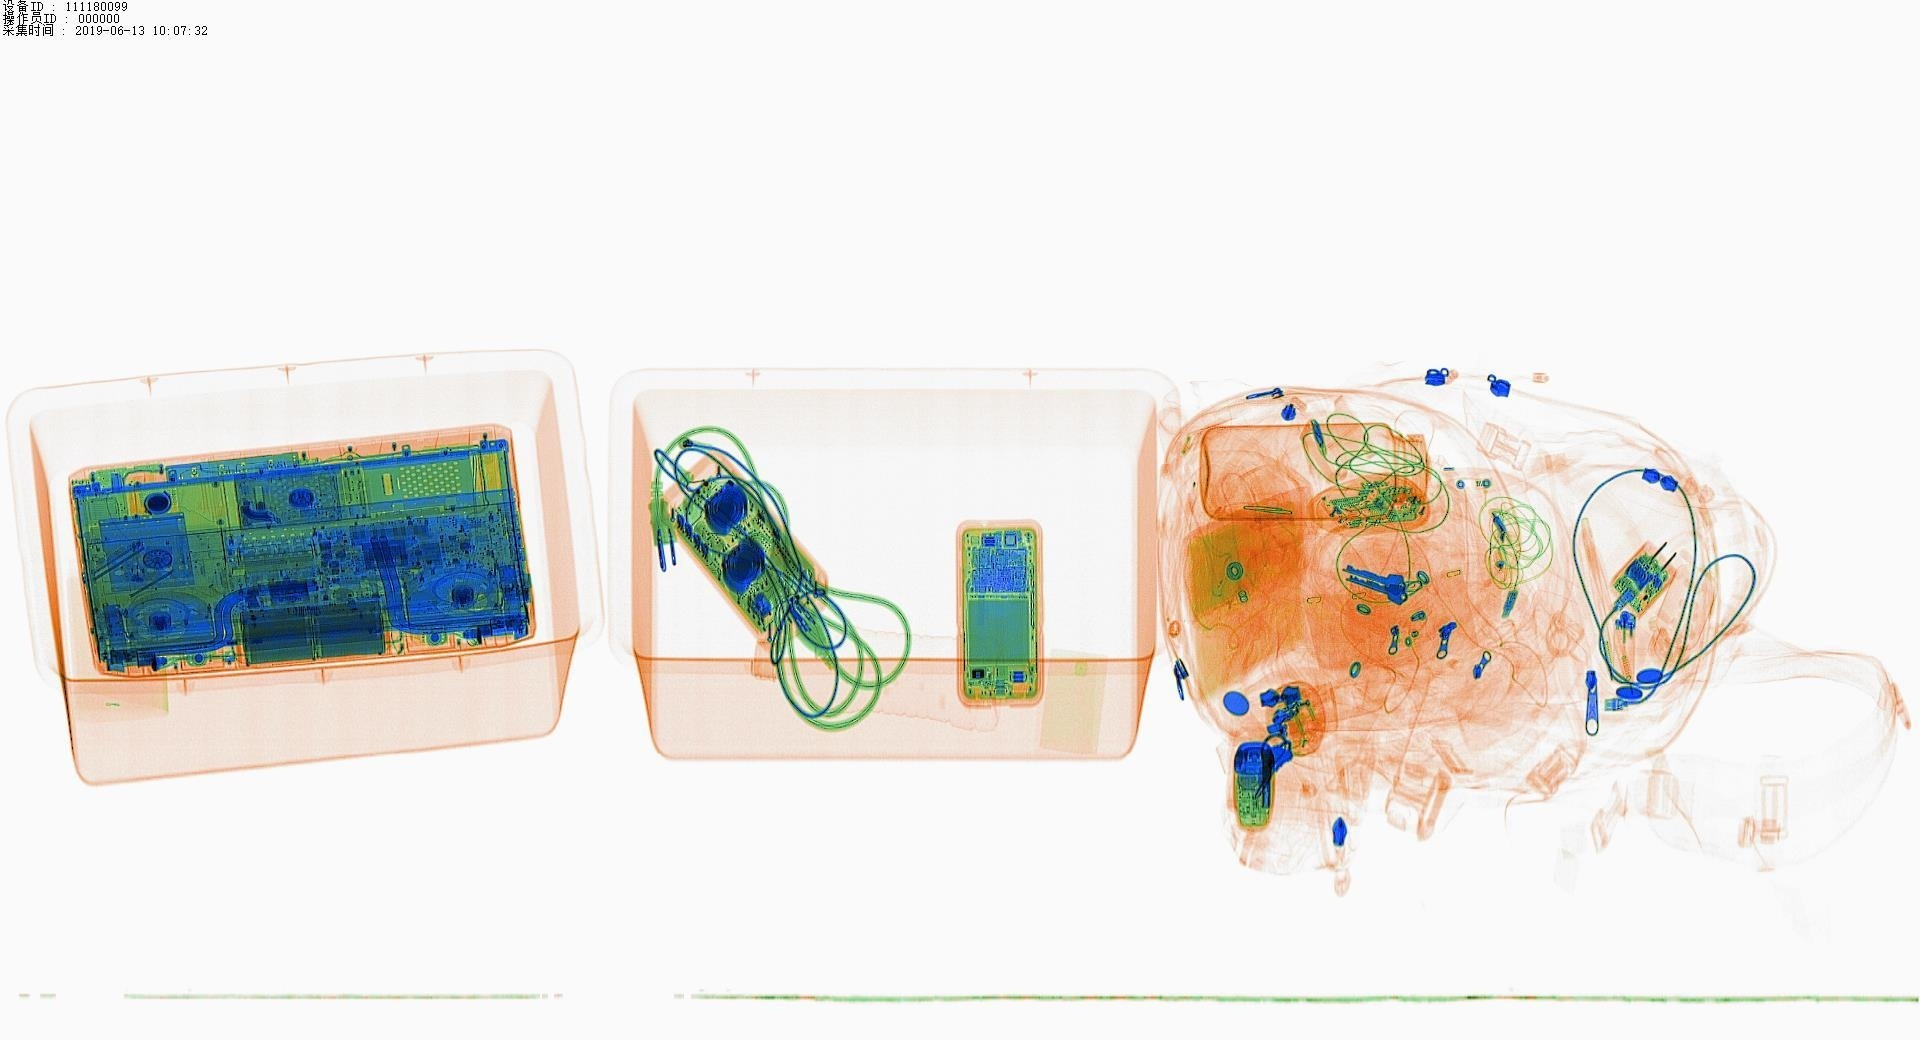NonmetallicFire: (1596, 598, 1652, 693)
